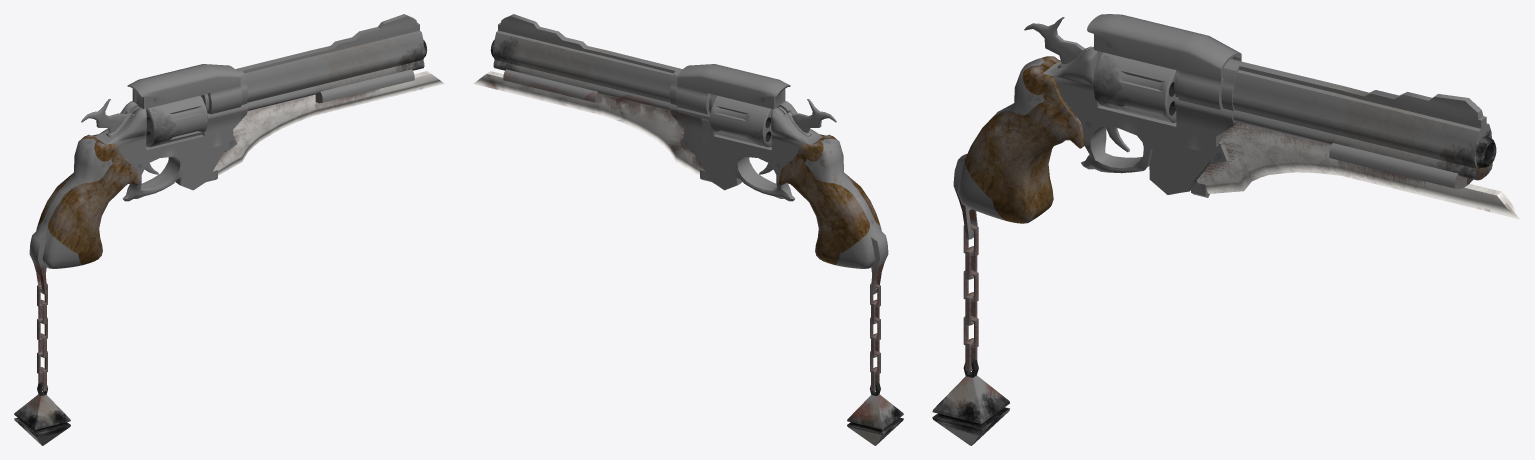
Rendered from witch_hunters_hand_cannon.glb.
3 views of the same model, side by side, from view 1: azimuth 30°, elevation 25°; view 2: azimuth 150°, elevation 25°; view 3: azimuth 330°, elevation 25° (orthographic). The views are drawn at different scales.
Parts seen in each view (by area): view 1: Body_Material #28_0, Chamber_Material #28_0, Burner, Chain007_Material #28_0, Hammer_Material #28_0; view 2: Body_Material #28_0, Chamber_Material #28_0, Burner, Chain007_Material #28_0, Hammer_Material #28_0, Lever_Material #28_0; view 3: Body_Material #28_0, Chamber_Material #28_0, Burner, Chain007_Material #28_0, Hammer_Material #28_0.
Part boxes in pixels (x1,y1,x2,y2): Body_Material #28_0: [29, 14, 444, 294]; Chamber_Material #28_0: [146, 95, 207, 147]; Burner: [14, 382, 70, 445]; Chain007_Material #28_0: [37, 284, 47, 391]; Hammer_Material #28_0: [81, 99, 125, 132]; Body_Material #28_0: [473, 14, 888, 294]; Chamber_Material #28_0: [710, 95, 771, 147]; Burner: [847, 382, 903, 445]; Chain007_Material #28_0: [870, 284, 880, 391]; Hammer_Material #28_0: [792, 99, 836, 132]; Lever_Material #28_0: [676, 103, 710, 142]; Body_Material #28_0: [953, 14, 1520, 239]; Chamber_Material #28_0: [1092, 52, 1176, 122]; Burner: [932, 358, 1009, 445]; Chain007_Material #28_0: [963, 224, 978, 371]; Hammer_Material #28_0: [1024, 17, 1084, 63].
Size of the model in its own units: 22662 by 17610 by 2220.
1 material, 1 textured.
